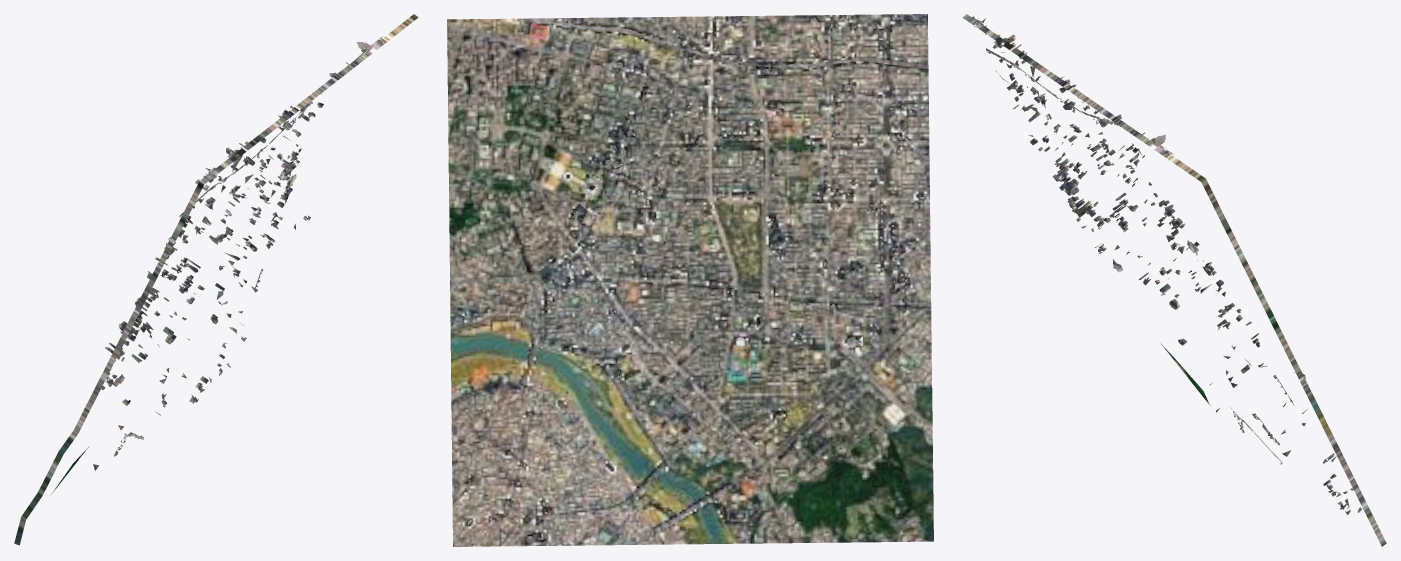
The picture shows the model from 3 angles, left to right: view 1: azimuth 30°, elevation 25°; view 2: azimuth 150°, elevation 25°; view 3: azimuth 270°, elevation 25°; orthographic projection. The views are drawn at different scales.
Bounding box in the file's own units: 4904 × 4502 × 4128.
1 material, 1 textured.
